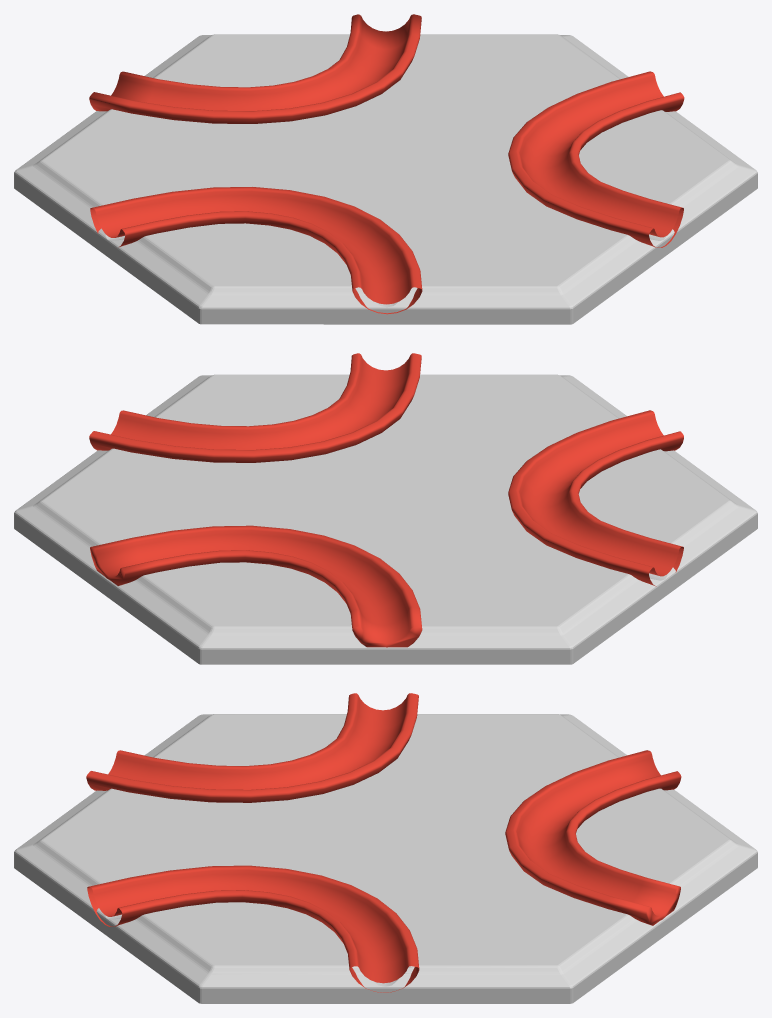
File: tile_3corners.glb
The picture shows the model from 3 angles, top to bottom: view 1: azimuth 30°, elevation 25°; view 2: azimuth 150°, elevation 25°; view 3: azimuth 270°, elevation 25°; orthographic projection.
Visible parts, largest first — view 1: Tile_3corners; view 2: Tile_3corners; view 3: Tile_3corners.
Boxes of the visible parts, x1,y1,x2,y2 form: Tile_3corners: [14, 14, 757, 324]; Tile_3corners: [14, 353, 757, 664]; Tile_3corners: [14, 693, 757, 1003].
Size of the model in its own units: 1.73 by 0.1134 by 2.
